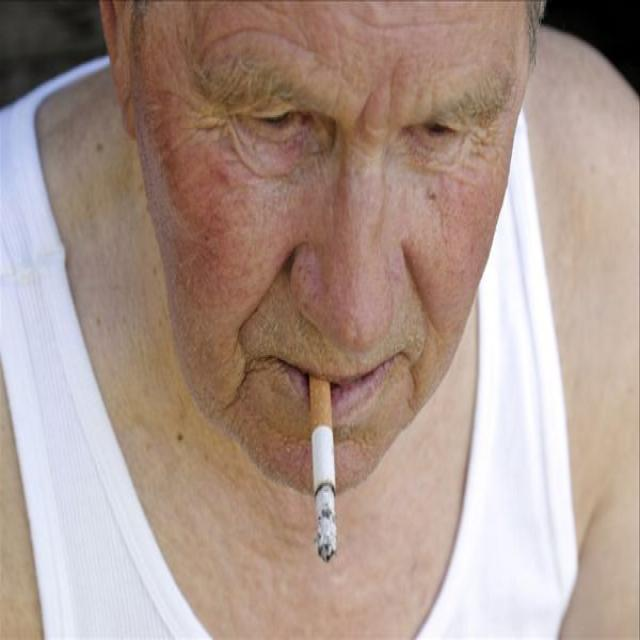smoking: (312, 367, 339, 564)
